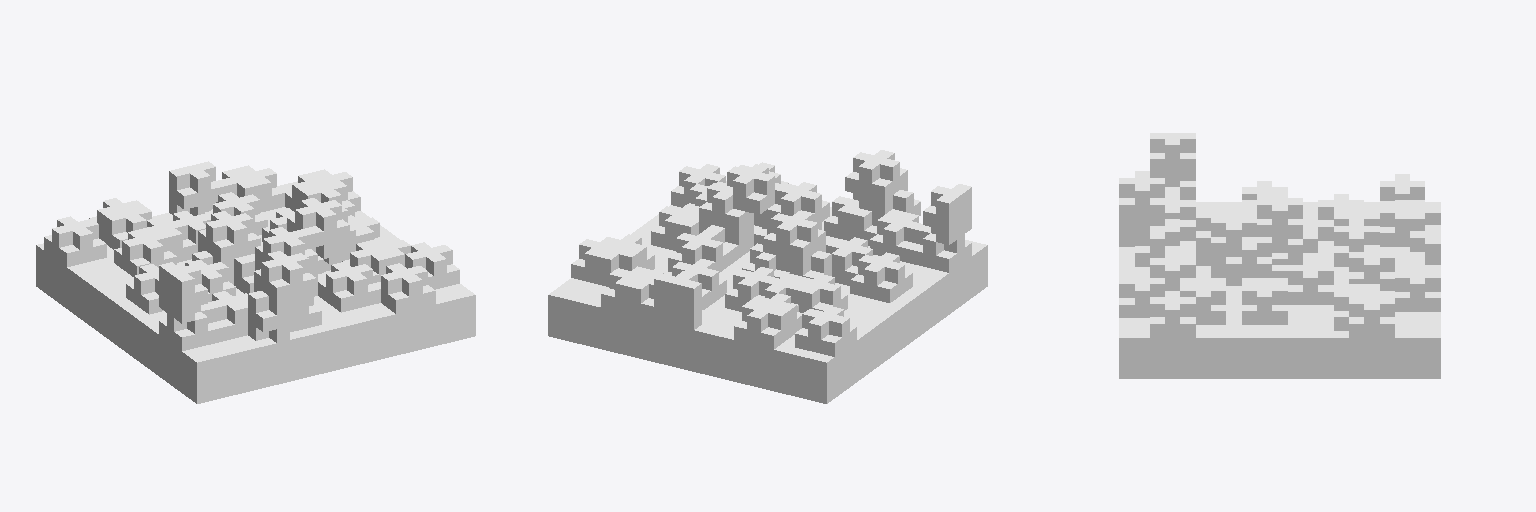
File: forest1.obj
3 renders of one model, left to right at view 1: azimuth 30°, elevation 25°; view 2: azimuth 150°, elevation 25°; view 3: azimuth 270°, elevation 25°, orthographic.
Bounding box in the file's own units: 21 × 8 × 21.